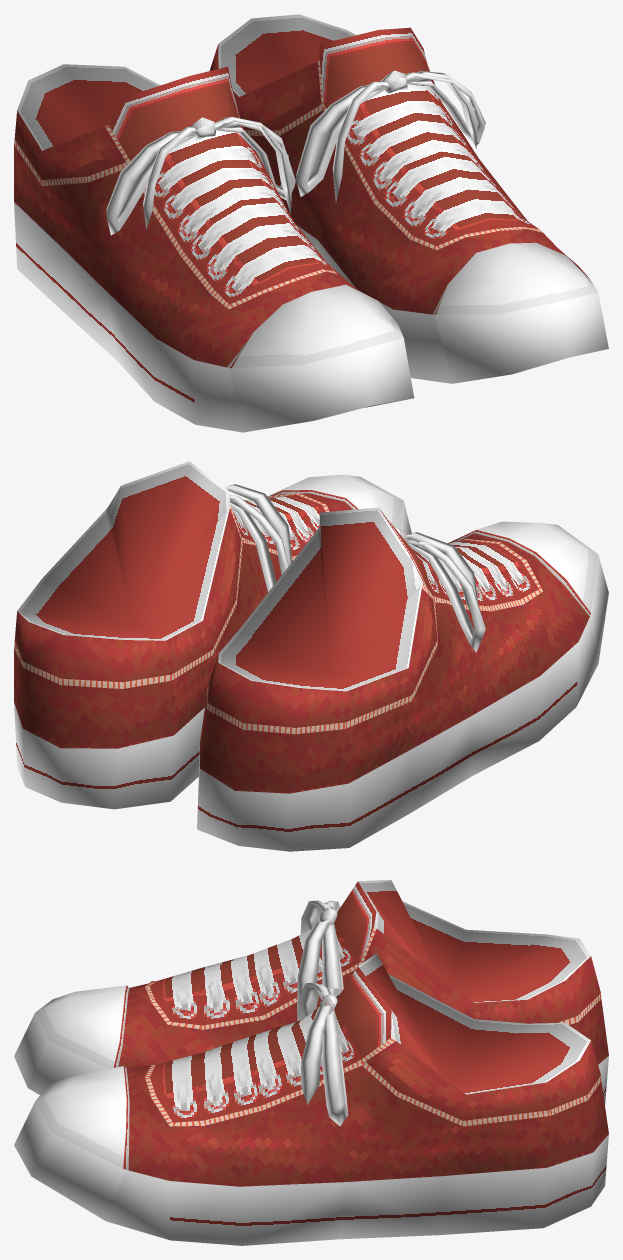
Rendered from male_sneakers2.glb.
3 renders of one model, top to bottom at view 1: azimuth 30°, elevation 25°; view 2: azimuth 150°, elevation 25°; view 3: azimuth 270°, elevation 25°, orthographic. The views are drawn at different scales.
Visible parts, largest first — view 1: node_id294; view 2: node_id294; view 3: node_id294.
Boxes of the visible parts, <box> form: node_id294: <box>14,14,608,432</box>; node_id294: <box>14,461,608,851</box>; node_id294: <box>14,880,608,1245</box>.
Bounding box in the file's own units: 0.512 × 0.3254 × 0.7439.
Materials: 1 (1 with a texture image).
